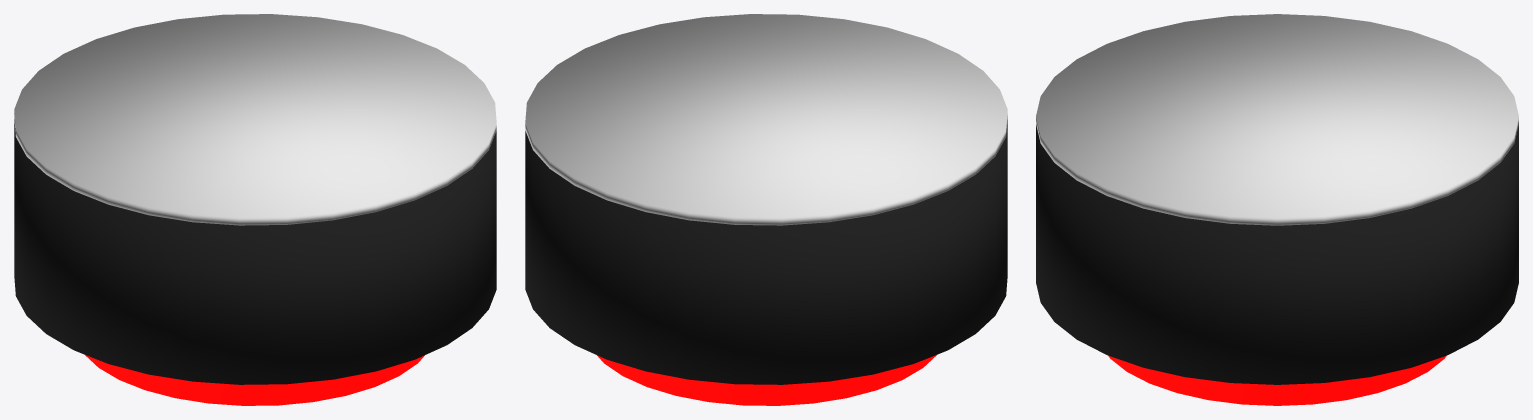
File: table.fbx
3 views of the same model, side by side, from view 1: azimuth 30°, elevation 25°; view 2: azimuth 150°, elevation 25°; view 3: azimuth 270°, elevation 25° (orthographic).
Visible parts, largest first — view 1: Cylinder; view 2: Cylinder; view 3: Cylinder.
Boxes of the visible parts, x1,y1,x2,y2 form: Cylinder: [14, 14, 496, 405]; Cylinder: [525, 14, 1007, 405]; Cylinder: [1036, 14, 1518, 405].
Bounding box in the file's own units: 344 × 168 × 344.
